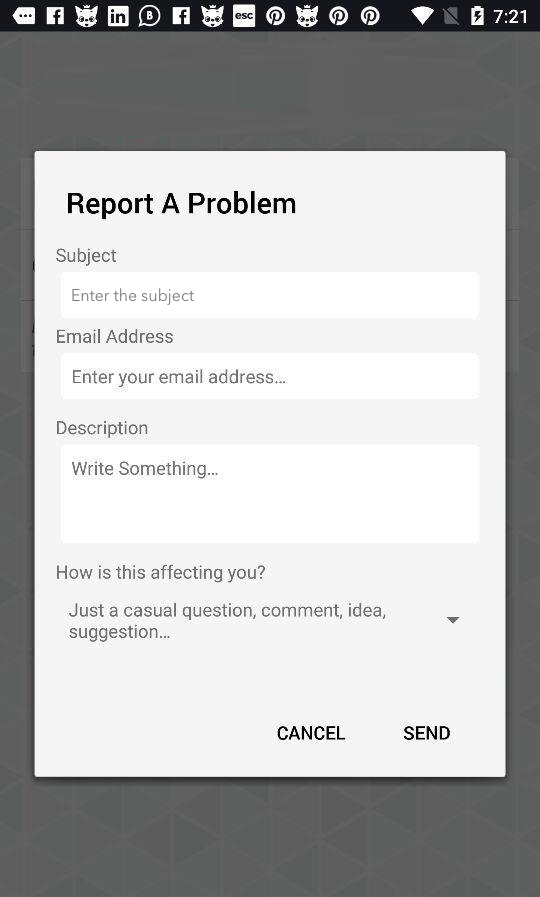EditText: (60, 444, 481, 545), (60, 352, 481, 401), (60, 271, 481, 320)
Modal: (34, 151, 506, 778)
Text: (69, 603, 386, 643), (69, 192, 296, 220), (74, 369, 286, 388), (58, 565, 266, 584), (73, 461, 219, 480), (73, 288, 195, 306), (58, 329, 174, 344), (57, 421, 148, 439), (56, 247, 118, 268), (278, 725, 346, 740), (404, 726, 450, 740)
UpperTaskBar: (1, 1, 540, 33)
